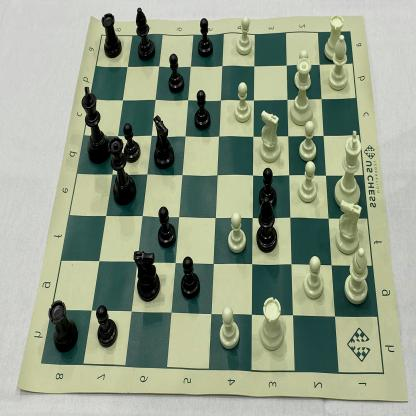black-bishop: (254, 195, 280, 255), (134, 3, 156, 62)
black-king: (80, 84, 110, 164)
black-knight: (134, 247, 161, 303), (152, 113, 176, 172)
black-pawn: (155, 203, 180, 251), (96, 303, 121, 350), (180, 253, 200, 301), (192, 87, 212, 133), (195, 16, 215, 60), (259, 166, 278, 210), (123, 122, 141, 166), (167, 52, 185, 96)
black-queen: (109, 138, 137, 212)
black-rook: (48, 298, 80, 354), (99, 11, 123, 60)
white-bishop: (342, 247, 371, 305), (327, 35, 350, 92)
white-king: (334, 129, 364, 209)
white-knight: (332, 200, 364, 255), (258, 110, 282, 164)
white-pawn: (218, 305, 242, 354), (302, 254, 325, 302), (297, 158, 319, 205), (226, 209, 247, 256), (232, 80, 252, 124), (298, 120, 318, 164), (235, 14, 255, 57), (292, 48, 312, 90)
white-queen: (288, 57, 316, 127)
white-rook: (259, 294, 286, 354), (324, 13, 344, 62)
